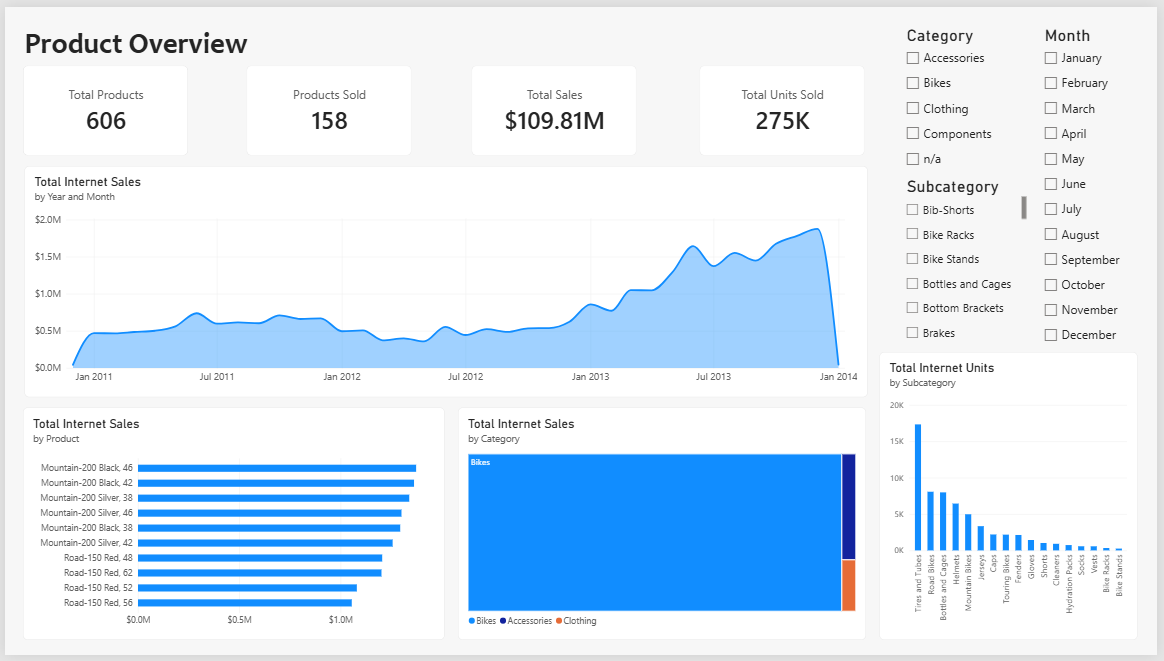

This screenshot's page, from the dashboard's own definition file:
{"tool":"powerbi","page":{"name":"Product Overview","canvas":[1920,1080],"ordinal":2},"visuals":[{"type":"textbox","box":[32.5,30,425,60],"z":0},{"type":"cardVisual","fields":{"Data":["Count(dim_product.product_id)"]},"box":[29.2,97.5,275,150],"z":1000},{"type":"stackedAreaChart","fields":{"Category":["fact_internet_sales.order_date.Variation.Date Hierarchy.Year","fact_internet_sales.order_date.Variation.Date Hierarchy.Month"],"Y":["_measure (internet).Total Internet Sales"]},"box":[32.5,265,1405,385],"z":2000},{"type":"clusteredBarChart","fields":{"Category":["dim_product.product_name"],"Y":["_measure (internet).Total Internet Sales"]},"box":[30,667.5,702.5,387.5],"z":3000},{"type":"treemap","fields":{"Group":["dim_product.category"],"Values":["_measure (internet).Total Internet Sales"]},"box":[755,667.5,680,387.5],"z":4000},{"type":"cardVisual","fields":{"Data":["Count(fact_internet_sales.product_id)"]},"box":[401.7,97.5,275,150],"z":5000},{"type":"cardVisual","fields":{"Data":["_measure (others).Total Sales"]},"box":[776.7,97.5,275,150],"z":6000},{"type":"cardVisual","fields":{"Data":["_measure (others).Total Units Sold"]},"box":[1156.7,97.5,275,150],"z":7000},{"type":"slicer","fields":{"Values":["dim_product.category"]},"box":[1495,30,207.5,252.5],"z":8000},{"type":"slicer","fields":{"Values":["dim_date.month_name"]},"box":[1725,30,162.5,545],"z":9000},{"type":"slicer","fields":{"Values":["dim_product.subcategory"]},"box":[1495,282.5,207.5,275],"z":10000},{"type":"clusteredColumnChart","fields":{"Category":["dim_product.subcategory"],"Y":["_measure (internet).Total Internet Units"]},"box":[1457.5,575,430,480],"z":11000}]}

Visuals, with their boxes in screenshot pixels (x1, y1, x2, y2), scaled from the page's 1920x1080 canvas onto the 1164x661 screenshot:
textbox: [left=20, top=18, right=277, bottom=55]
cardVisual - Count(dim_product.product_id): [left=18, top=60, right=184, bottom=151]
stackedAreaChart - fact_internet_sales.order_date.Variation.Date Hierarchy.Year x fact_internet_sales.order_date.Variation.Date Hierarchy.Month: [left=20, top=162, right=871, bottom=398]
clusteredBarChart - dim_product.product_name x _measure (internet).Total Internet Sales: [left=18, top=409, right=444, bottom=646]
treemap - dim_product.category x _measure (internet).Total Internet Sales: [left=458, top=409, right=870, bottom=646]
cardVisual - Count(fact_internet_sales.product_id): [left=244, top=60, right=410, bottom=151]
cardVisual - _measure (others).Total Sales: [left=471, top=60, right=638, bottom=151]
cardVisual - _measure (others).Total Units Sold: [left=701, top=60, right=868, bottom=151]
slicer - dim_product.category: [left=906, top=18, right=1032, bottom=173]
slicer - dim_date.month_name: [left=1046, top=18, right=1144, bottom=352]
slicer - dim_product.subcategory: [left=906, top=173, right=1032, bottom=341]
clusteredColumnChart - dim_product.subcategory x _measure (internet).Total Internet Units: [left=884, top=352, right=1144, bottom=646]
